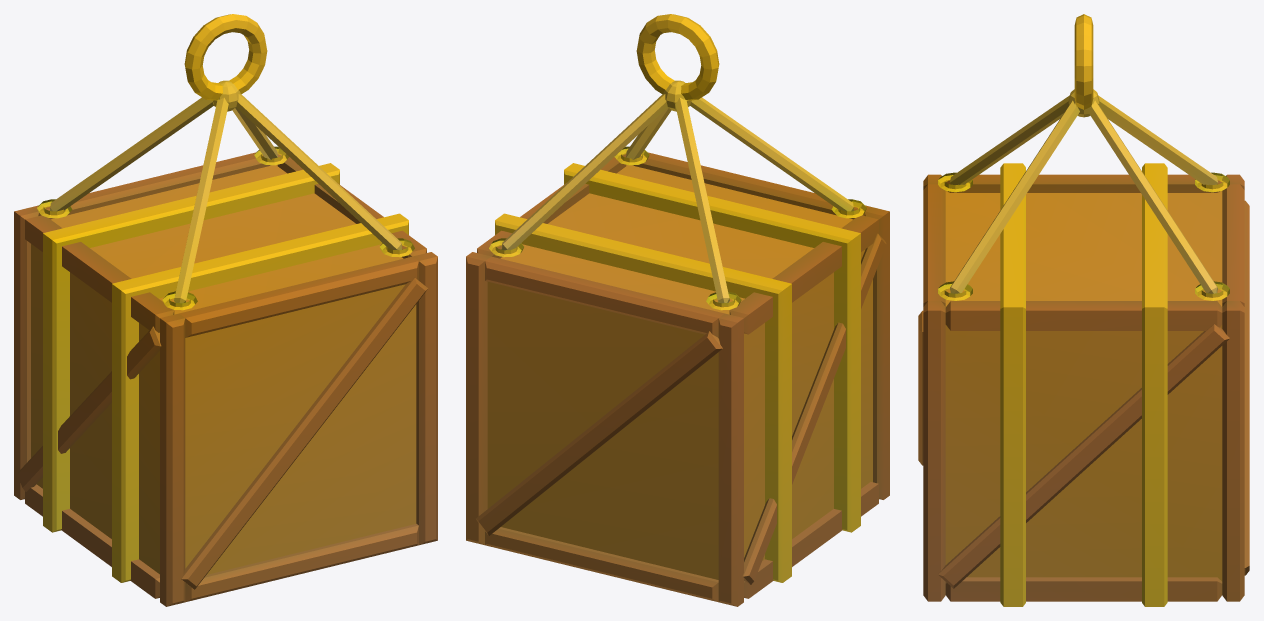
Rendered from Prop_CargoCrate.glb.
3 renders of one model, left to right at view 1: azimuth 30°, elevation 25°; view 2: azimuth 150°, elevation 25°; view 3: azimuth 270°, elevation 25°, orthographic. The views are drawn at different scales.
Visible parts, largest first — view 1: Cargo; view 2: Cargo; view 3: Cargo.
Part boxes in pixels (x1,y1,x2,y2): Cargo: (14,14,437,606); Cargo: (466,14,889,606); Cargo: (918,14,1249,606).
Size of the model in its own units: 1.06 by 1.77 by 1.03.
